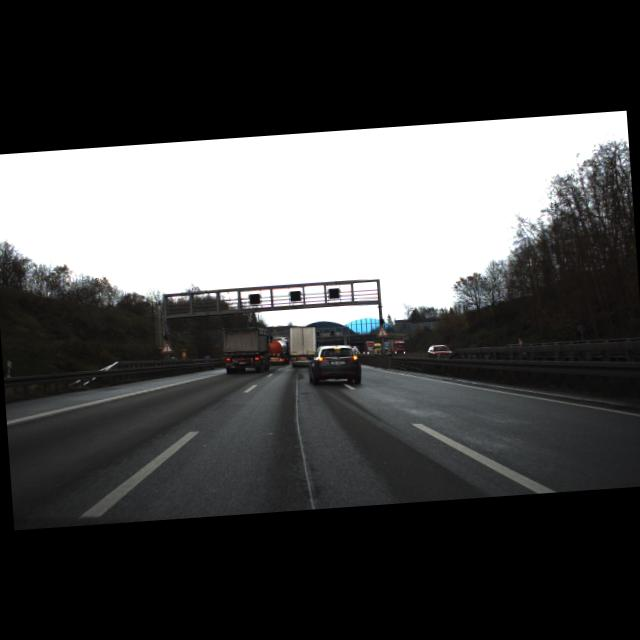danger: (160, 339, 174, 352), (376, 324, 390, 336)
